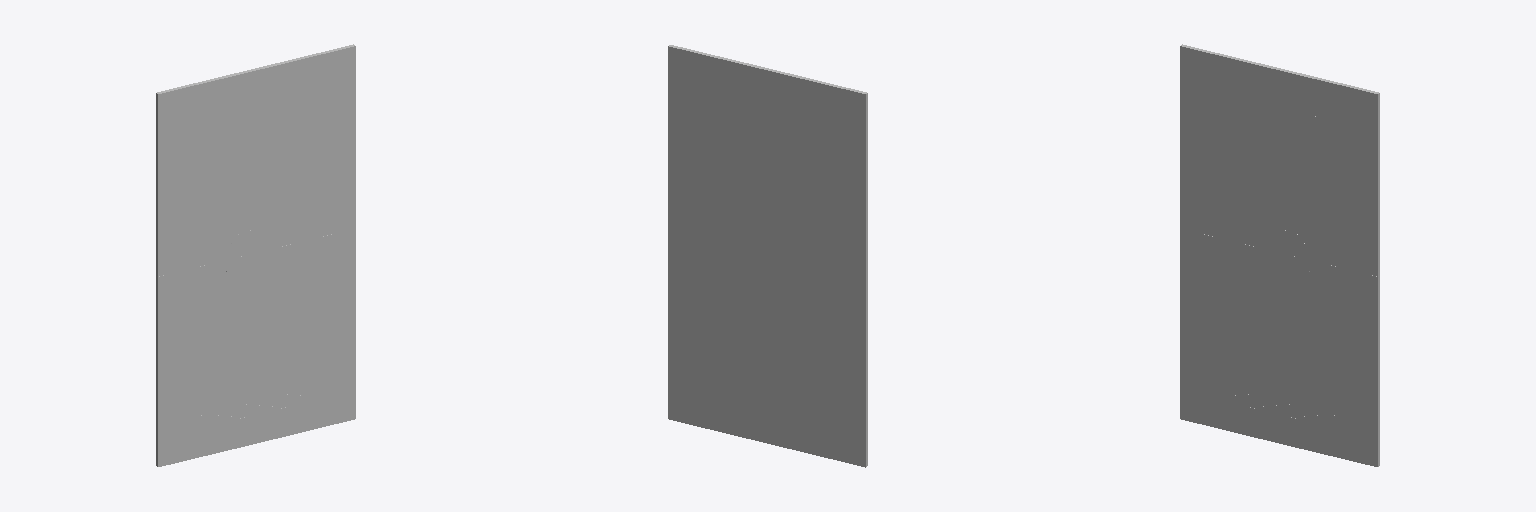
File: soccer.obj
The picture shows the model from 3 angles: view 1: azimuth 30°, elevation 25°; view 2: azimuth 150°, elevation 25°; view 3: azimuth 330°, elevation 25°; orthographic projection.
Parts seen in each view (by area): view 1: obj_0; view 2: obj_0; view 3: obj_0.
Boxes of the visible parts, x1=… form: obj_0: x1=156, y1=44, x2=355, y2=466; obj_0: x1=668, y1=45, x2=867, y2=467; obj_0: x1=1180, y1=44, x2=1379, y2=466.
Size of the model in its own units: 50 by 90 by 1.05.